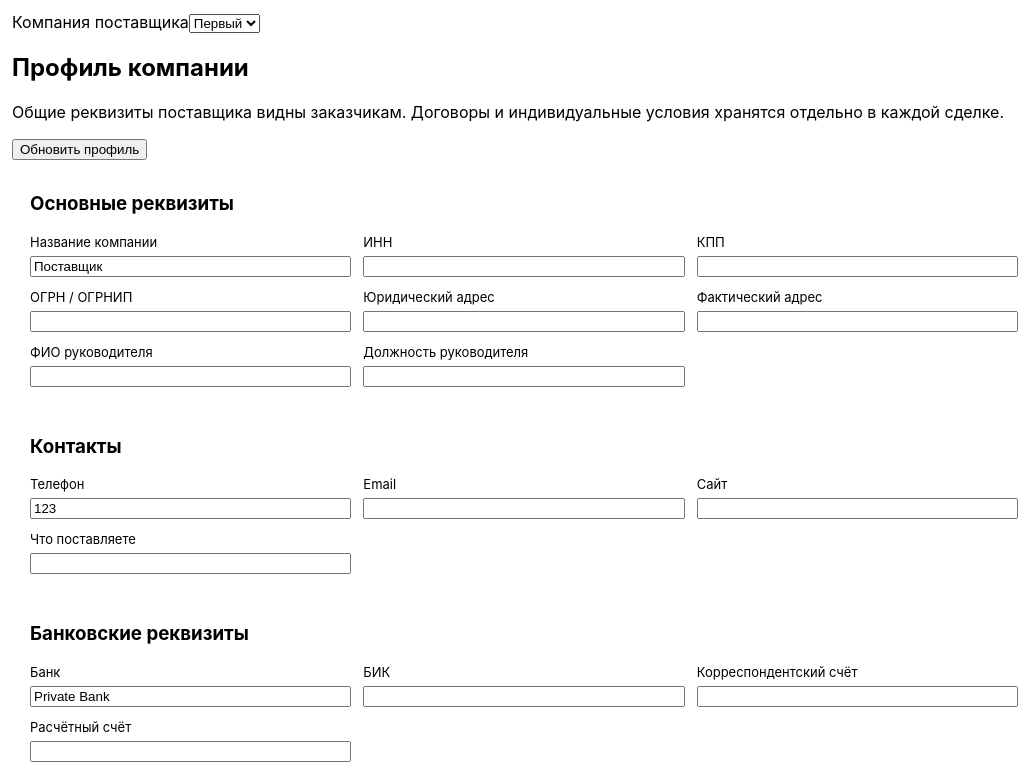
it: changing supplier removes previous bank details while loading
This screenshot has width=1036, height=780.
Expected: the field labelled "Банк" holds "Private Bank", [30,686,351,707]
Step 1. Select "Второй" in the dropdown labelled "Компания поставщика" → (224, 24), box [189,14,260,33]
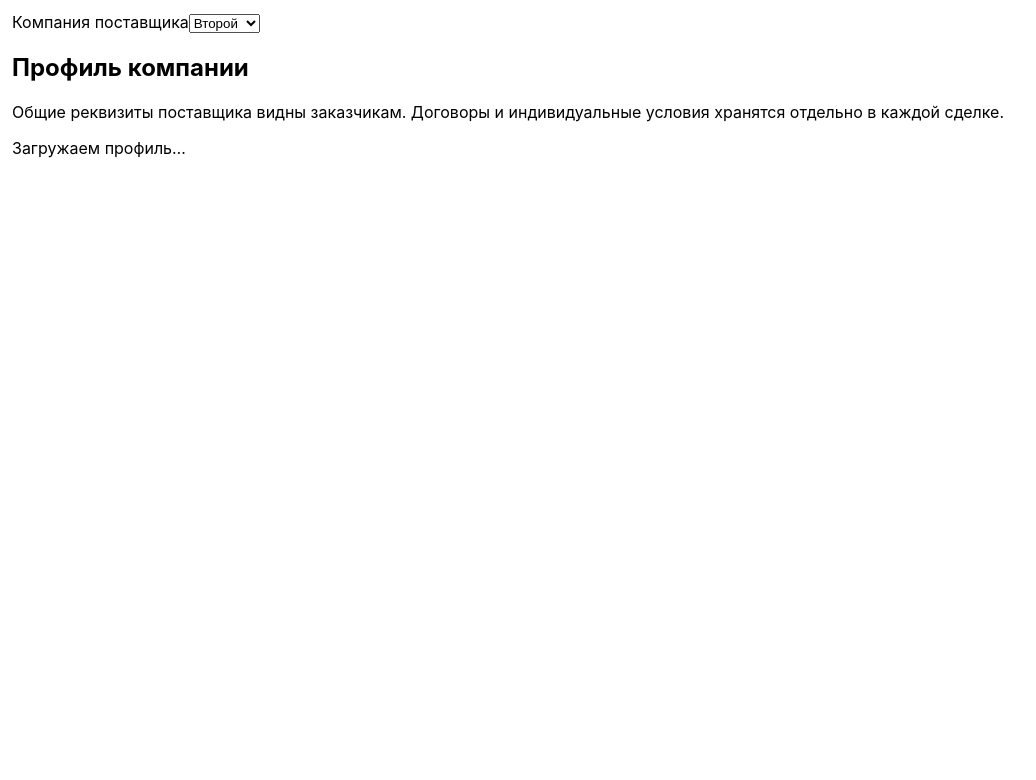
Expected: the field showing "Private Bank" is gone
